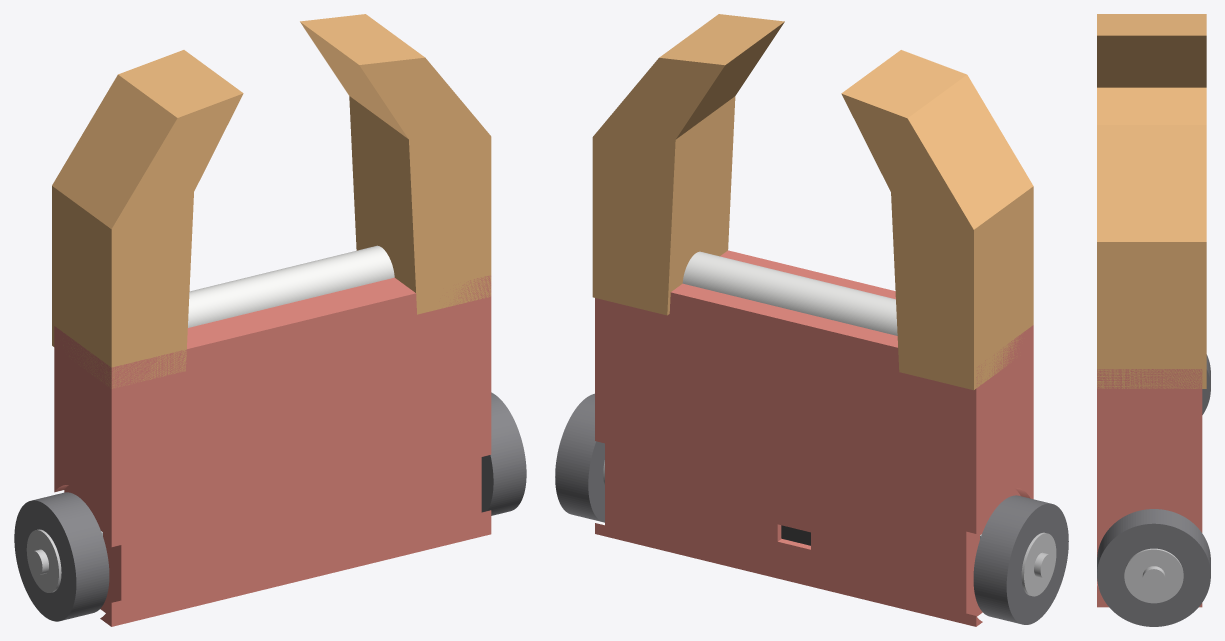
File: time_for_crab.glb
3 views of the same model, side by side, from view 1: azimuth 30°, elevation 25°; view 2: azimuth 150°, elevation 25°; view 3: azimuth 270°, elevation 25° (orthographic). The views are drawn at different scales.
Visible parts, largest first — view 1: chassis, claw_r, claw_l, wheel_r0, shaft, wheel_l0, dt_hub_wheel_r0; view 2: chassis, claw_r, claw_l, wheel_r0, shaft, wheel_l0, dt_hub_wheel_r0; view 3: claw_l, chassis, wheel_l0, claw_r, dt_hub_wheel_l0, wheel_r0.
Part boxes in pixels (x1,y1,x2,y2): chassis: [54, 275, 491, 626]; claw_r: [52, 50, 243, 388]; claw_l: [300, 14, 491, 314]; wheel_r0: [14, 492, 109, 621]; shaft: [188, 245, 394, 327]; wheel_l0: [481, 392, 526, 515]; dt_hub_wheel_r0: [26, 529, 61, 592]; chassis: [595, 250, 1033, 626]; claw_r: [841, 50, 1033, 390]; claw_l: [592, 14, 784, 315]; wheel_r0: [973, 495, 1068, 624]; shaft: [682, 251, 897, 335]; wheel_l0: [555, 393, 604, 522]; dt_hub_wheel_r0: [1021, 532, 1056, 596]; claw_l: [1097, 87, 1206, 388]; chassis: [1097, 369, 1202, 607]; wheel_l0: [1097, 509, 1210, 626]; claw_r: [1097, 14, 1206, 87]; dt_hub_wheel_l0: [1124, 548, 1183, 603]; wheel_r0: [1202, 354, 1210, 414].
Bounding box in the file's own units: 113 × 117 × 26.
